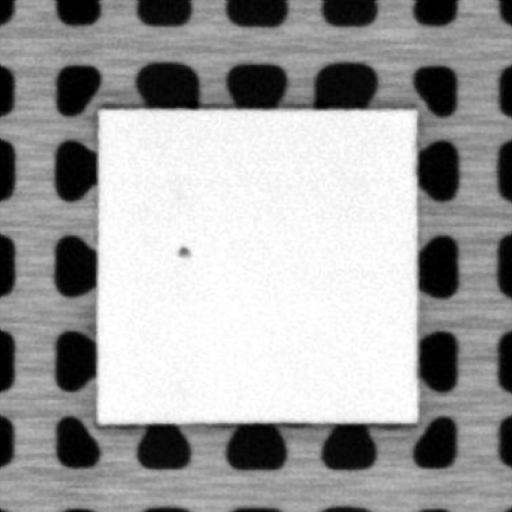DIE_INK: (174, 244, 190, 256)
